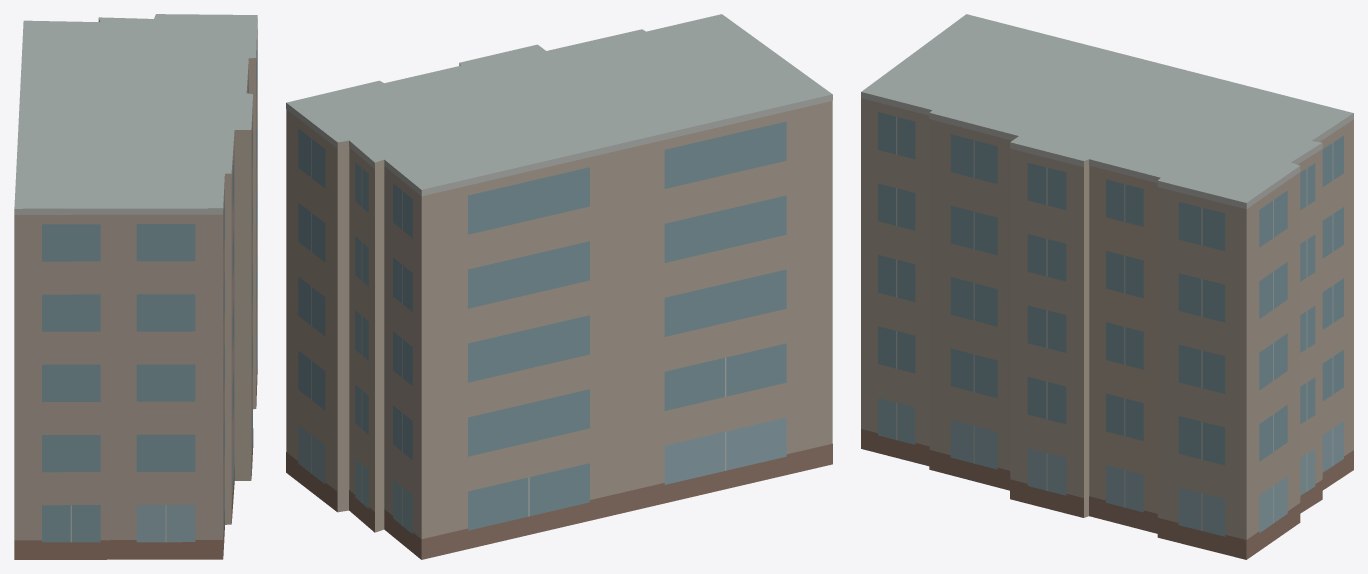
File: survey-upis-32741052.glb
3 views of the same model, side by side, from view 1: azimuth 30°, elevation 25°; view 2: azimuth 150°, elevation 25°; view 3: azimuth 270°, elevation 25° (orthographic). The views are drawn at different scales.
Parts seen in each view (by area): view 1: survey-upis-32741052.tmp; view 2: survey-upis-32741052.tmp; view 3: survey-upis-32741052.tmp.
Part boxes in pixels (x1,y1,x2,y2): survey-upis-32741052.tmp: (14, 14, 257, 559); survey-upis-32741052.tmp: (286, 14, 832, 559); survey-upis-32741052.tmp: (861, 14, 1353, 559).
Bounding box in the file's own units: 15.91 × 14 × 17.53.
